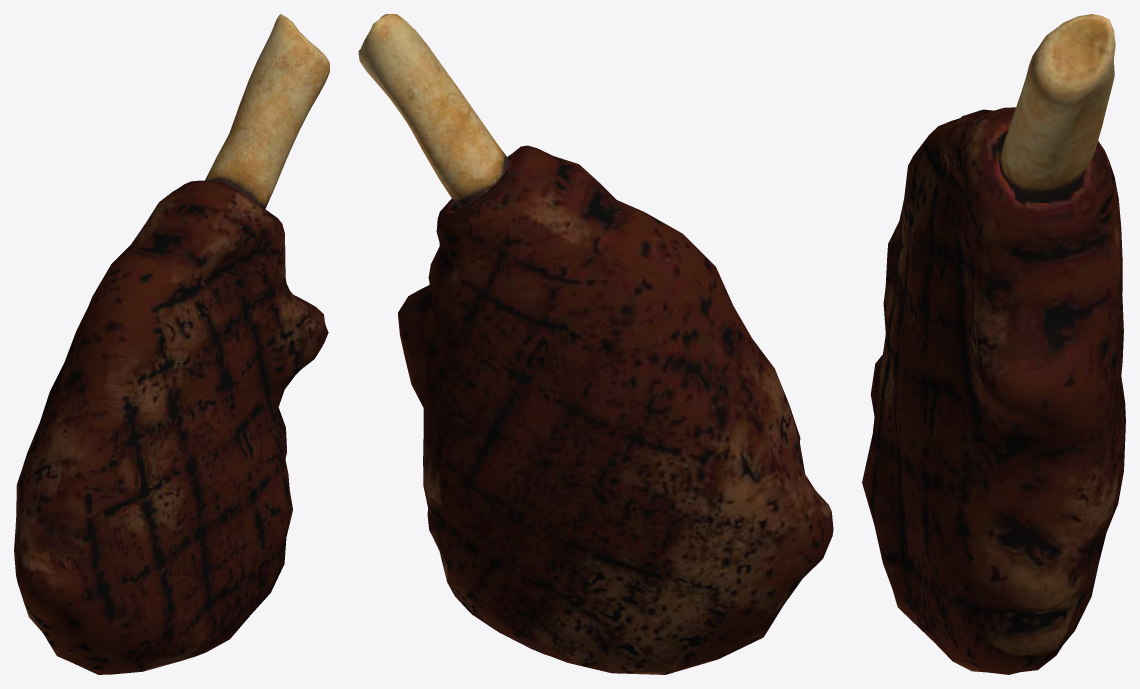
3 renders of one model, left to right at view 1: azimuth 30°, elevation 25°; view 2: azimuth 150°, elevation 25°; view 3: azimuth 270°, elevation 25°, orthographic. The views are drawn at different scales.
Parts seen in each view (by area): view 1: grilled meatlow_1; view 2: grilled meatlow_1; view 3: grilled meatlow_1.
Boxes of the visible parts, box(x1,y1,x2,y2) form: grilled meatlow_1: box(14, 14, 329, 674); grilled meatlow_1: box(358, 14, 833, 674); grilled meatlow_1: box(862, 14, 1125, 674).
Size of the model in its own units: 3.02 by 4.56 by 1.49.
Materials: 1 (1 with a texture image).
